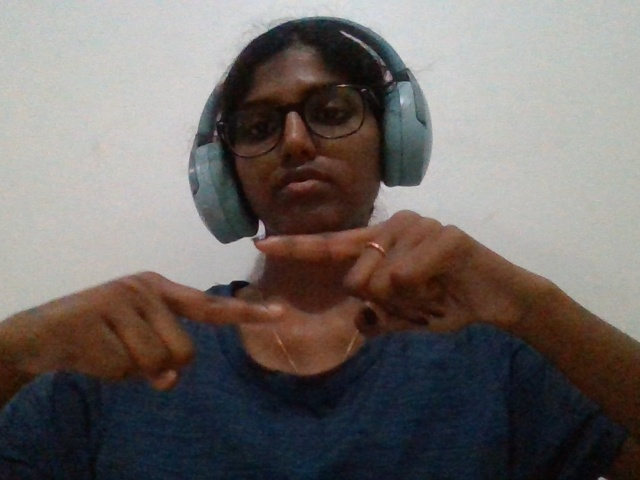Sign: (21, 203, 570, 424)
